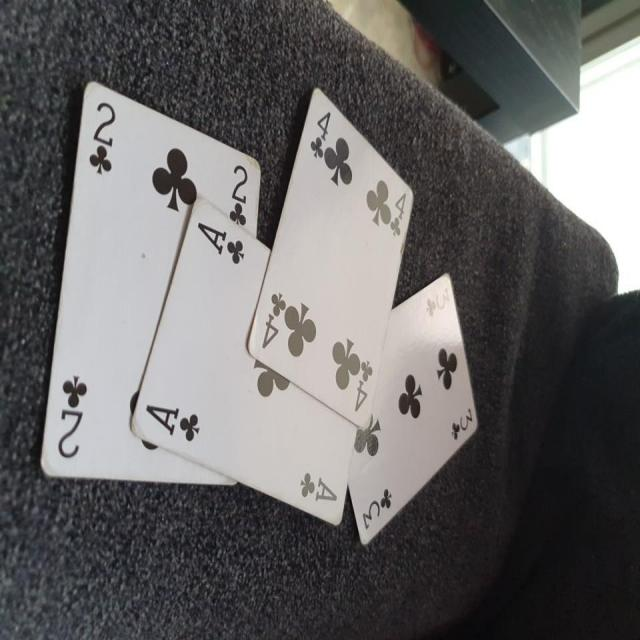2 Trefoils: (36, 77, 262, 490)
3 Trefoils: (348, 270, 479, 550)
4 Trefoils: (247, 88, 413, 428)
A Trefoils: (131, 195, 354, 524)
